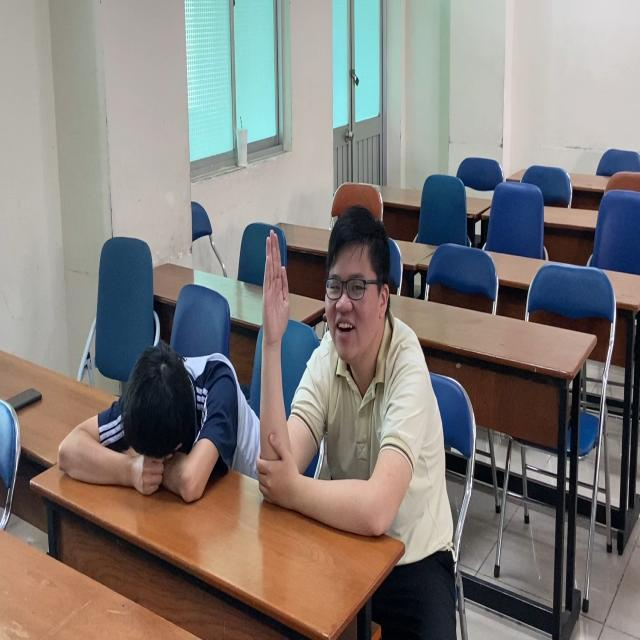raise_hand: (258, 200, 434, 558)
sleep: (53, 333, 252, 511)
